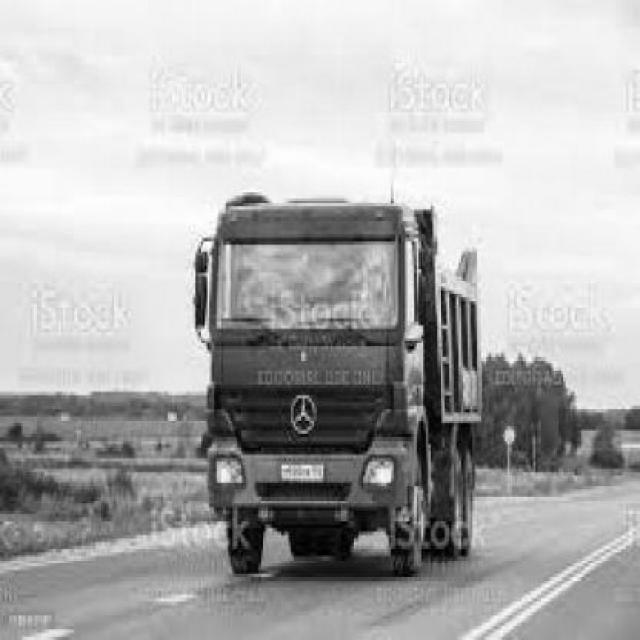Box Truck: (193, 193, 484, 579)
